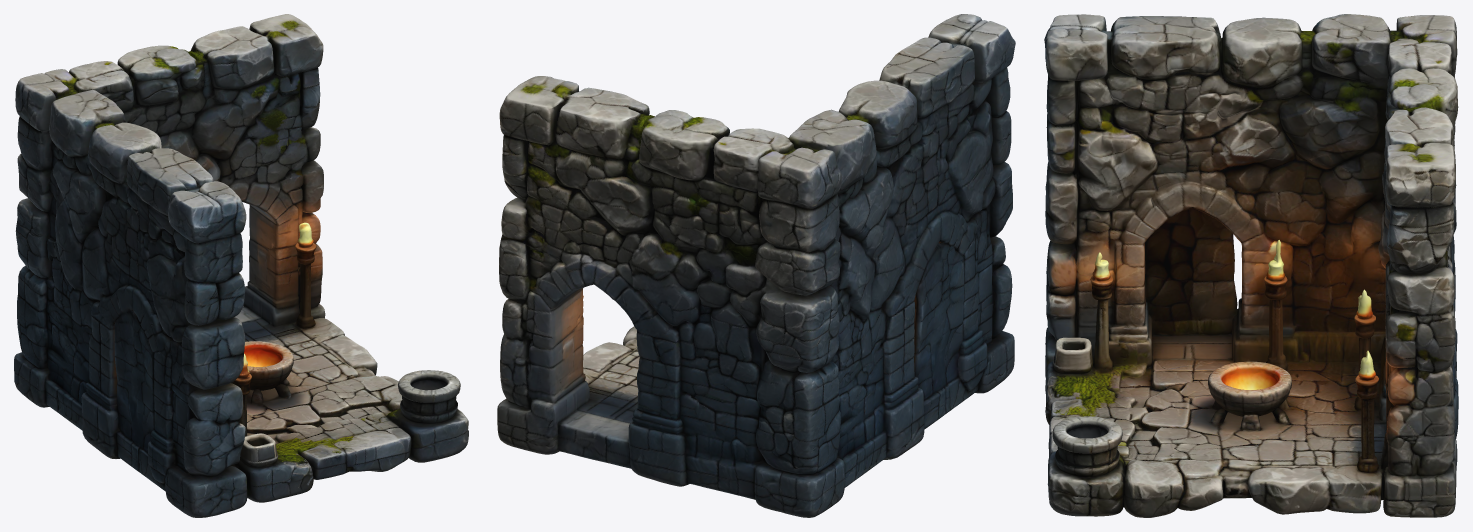
File: chamber.fbx
3 renders of one model, left to right at view 1: azimuth 30°, elevation 25°; view 2: azimuth 150°, elevation 25°; view 3: azimuth 270°, elevation 25°, orthographic. The views are drawn at different scales.
Visible parts, largest first — view 1: tripo_node_4889bfce; view 2: tripo_node_4889bfce; view 3: tripo_node_4889bfce.
Boxes of the visible parts, box(x1,y1,x2,y2) form: tripo_node_4889bfce: box(14, 14, 468, 517); tripo_node_4889bfce: box(497, 14, 1015, 517); tripo_node_4889bfce: box(1044, 14, 1458, 517).
Size of the model in its own units: 0.9032 by 0.9462 by 1.
1 material, 1 textured.
